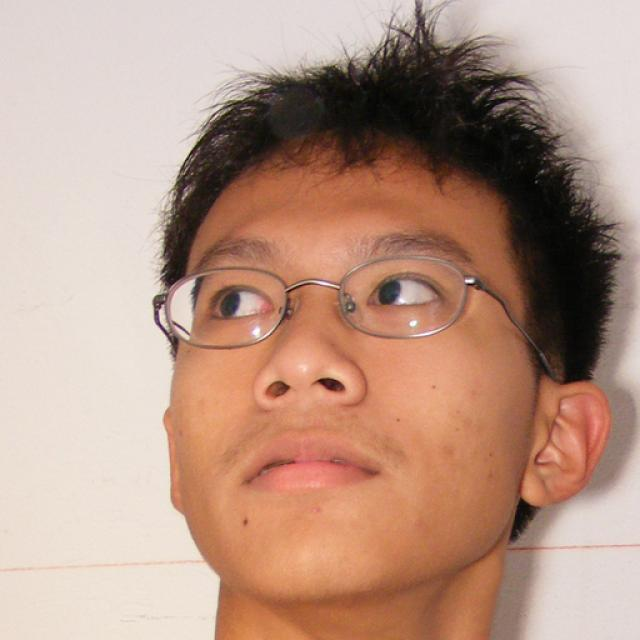neutral: (176, 143, 530, 601)
